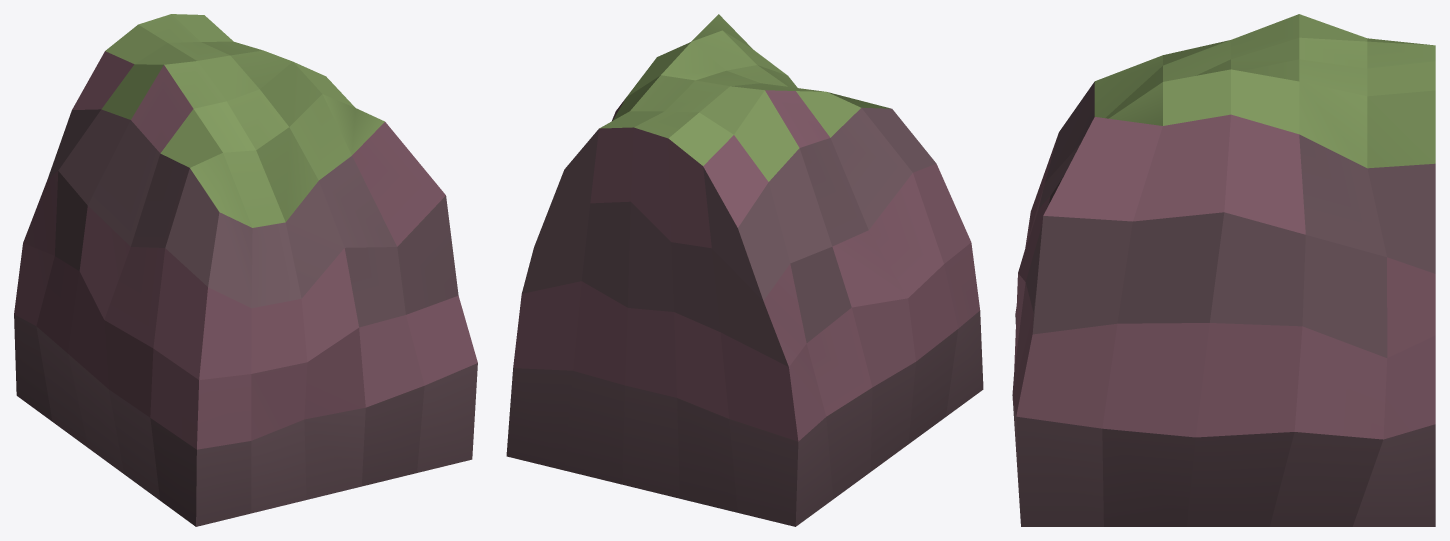
Rendered from roca_punta_2.glb.
3 renders of one model, left to right at view 1: azimuth 30°, elevation 25°; view 2: azimuth 150°, elevation 25°; view 3: azimuth 270°, elevation 25°, orthographic. The views are drawn at different scales.
Parts seen in each view (by area): view 1: propforge-cuartos-roca_punta; view 2: propforge-cuartos-roca_punta; view 3: propforge-cuartos-roca_punta.
Part boxes in pixels (box(x1,y1,x2,y2)): propforge-cuartos-roca_punta: box(14, 14, 477, 526); propforge-cuartos-roca_punta: box(506, 14, 983, 526); propforge-cuartos-roca_punta: box(1012, 14, 1435, 526).
Bounding box in the file's own units: 0.8961 × 0.977 × 0.9186.
